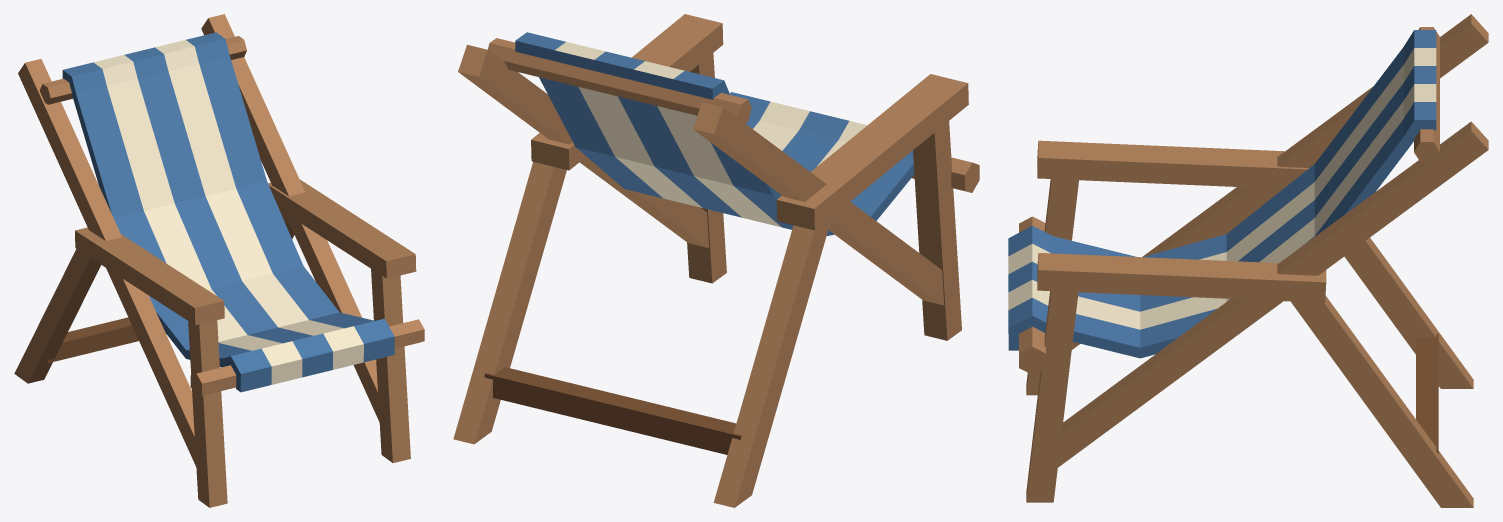
File: FMS_Garden_Deck_Chair_Blue.fbx
3 renders of one model, left to right at view 1: azimuth 30°, elevation 25°; view 2: azimuth 150°, elevation 25°; view 3: azimuth 270°, elevation 25°, orthographic. The views are drawn at different scales.
Parts seen in each view (by area): view 1: FMS_Garden_Deck_Chair_Blue_Body; view 2: FMS_Garden_Deck_Chair_Blue_Body; view 3: FMS_Garden_Deck_Chair_Blue_Body.
Boxes of the visible parts, x1,y1,x2,y2 form: FMS_Garden_Deck_Chair_Blue_Body: (14, 14, 424, 507); FMS_Garden_Deck_Chair_Blue_Body: (453, 14, 979, 507); FMS_Garden_Deck_Chair_Blue_Body: (1008, 14, 1488, 507).
Size of the model in its own units: 0.68 by 0.9033 by 1.06.
Materials: 1 (1 with a texture image).
